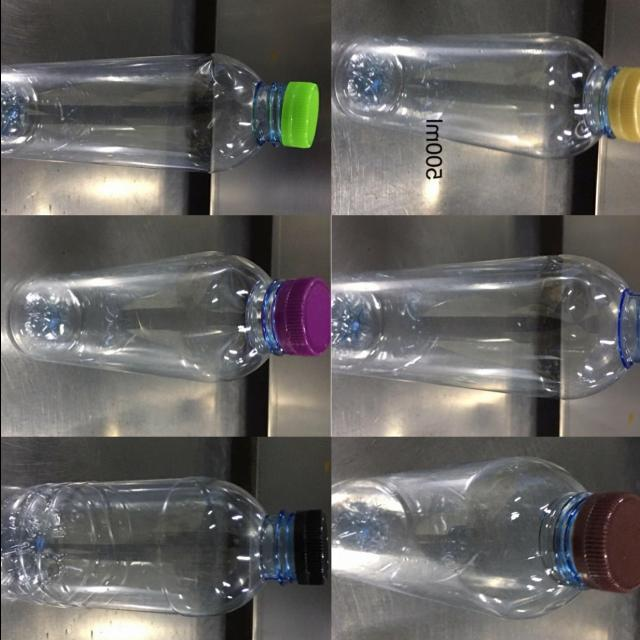plastik: (331, 457, 640, 619), (0, 478, 328, 617), (330, 255, 640, 400), (9, 252, 330, 382), (333, 33, 640, 159), (0, 53, 318, 173)
